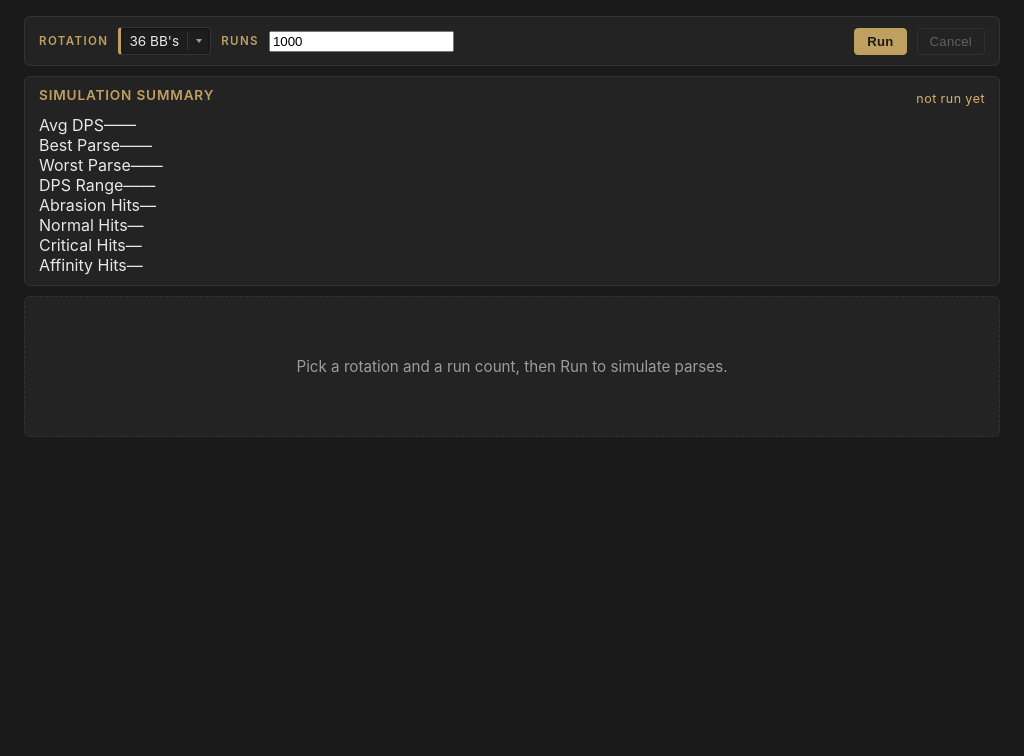
Test: SimulationTab › keeps the last completed result after a cancel and says how many runs it covers
Click the button "Run". click: x=880, y=41
box: [854, 28, 907, 55]
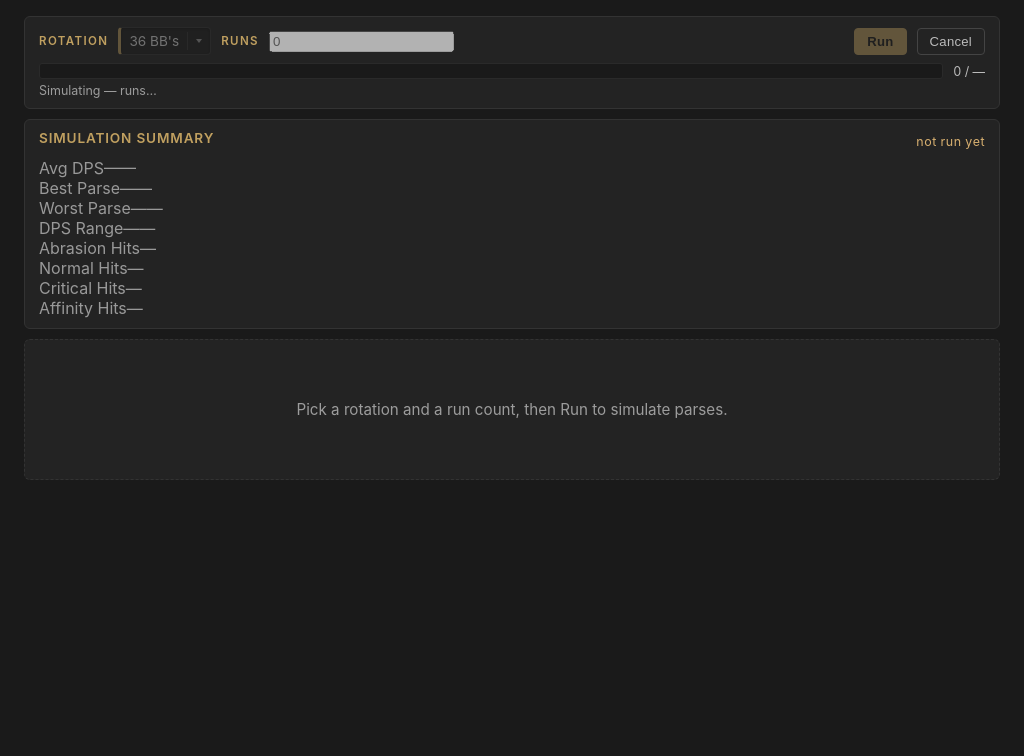
Click the button "Cancel". click: x=951, y=41
box: [917, 28, 985, 55]
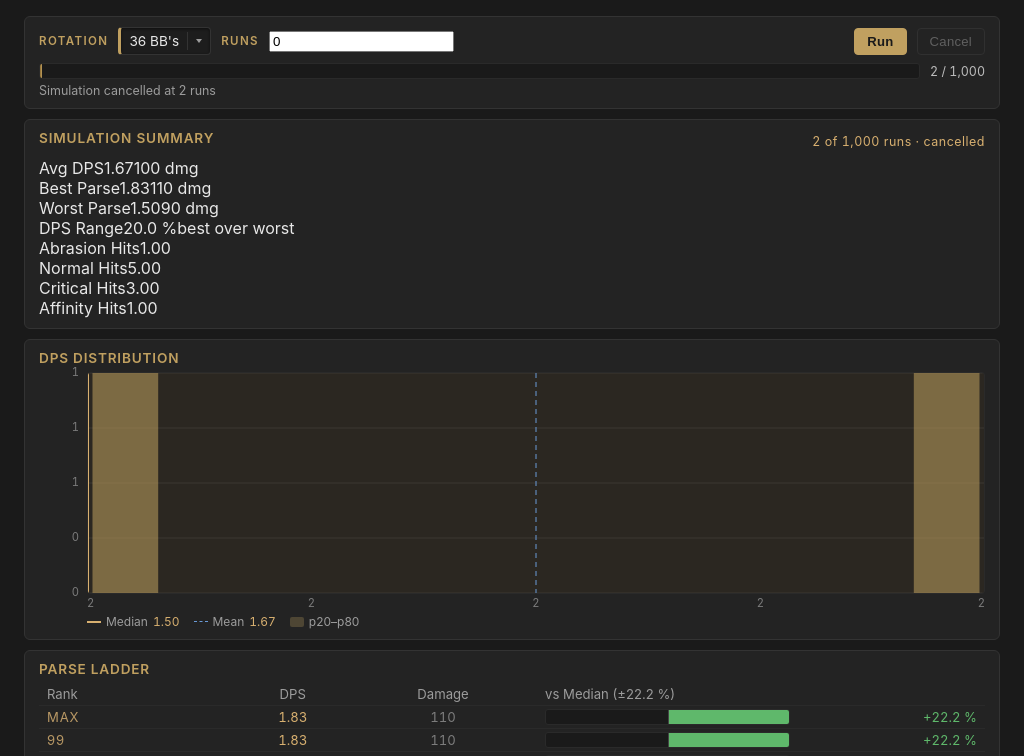
Expected: the text "2 of 1,000 runs · cancelled" is shown, [812, 134, 985, 149]
Expected: the heading "Parse Ladder" is shown, [39, 661, 150, 677]
